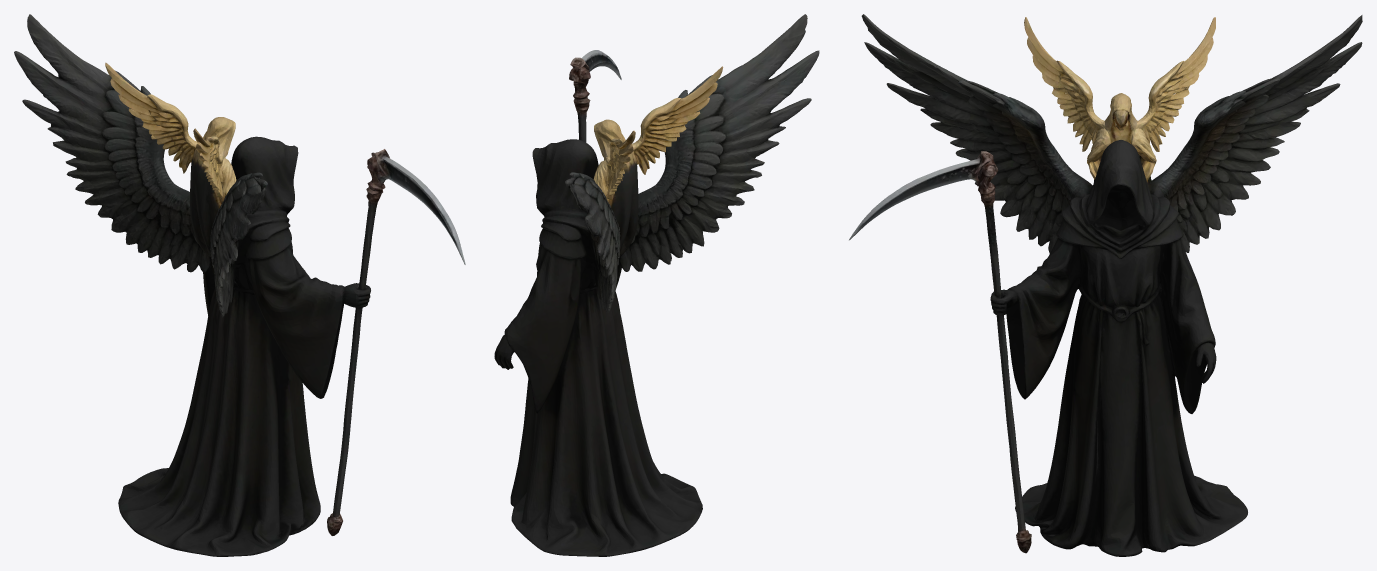
Rendered from grim_reaper.glb.
3 renders of one model, left to right at view 1: azimuth 30°, elevation 25°; view 2: azimuth 150°, elevation 25°; view 3: azimuth 270°, elevation 25°, orthographic. The views are drawn at different scales.
Parts seen in each view (by area): view 1: tripo_node_767f33d9_tripo_mat_767f33d9_0; view 2: tripo_node_767f33d9_tripo_mat_767f33d9_0; view 3: tripo_node_767f33d9_tripo_mat_767f33d9_0.
Boxes of the visible parts, <box> form: tripo_node_767f33d9_tripo_mat_767f33d9_0: <box>14,14,465,556</box>; tripo_node_767f33d9_tripo_mat_767f33d9_0: <box>494,14,819,556</box>; tripo_node_767f33d9_tripo_mat_767f33d9_0: <box>849,14,1362,556</box>.
Size of the model in its own units: 0.5056 by 0.9979 by 0.9978.
Materials: 1 (1 with a texture image).
